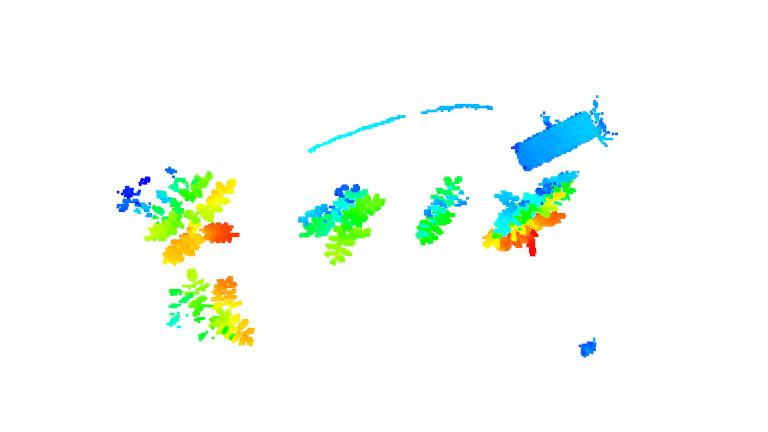chickpea: (117, 169, 244, 265), (478, 167, 582, 257), (295, 182, 387, 268), (166, 267, 256, 349), (413, 173, 470, 248)
